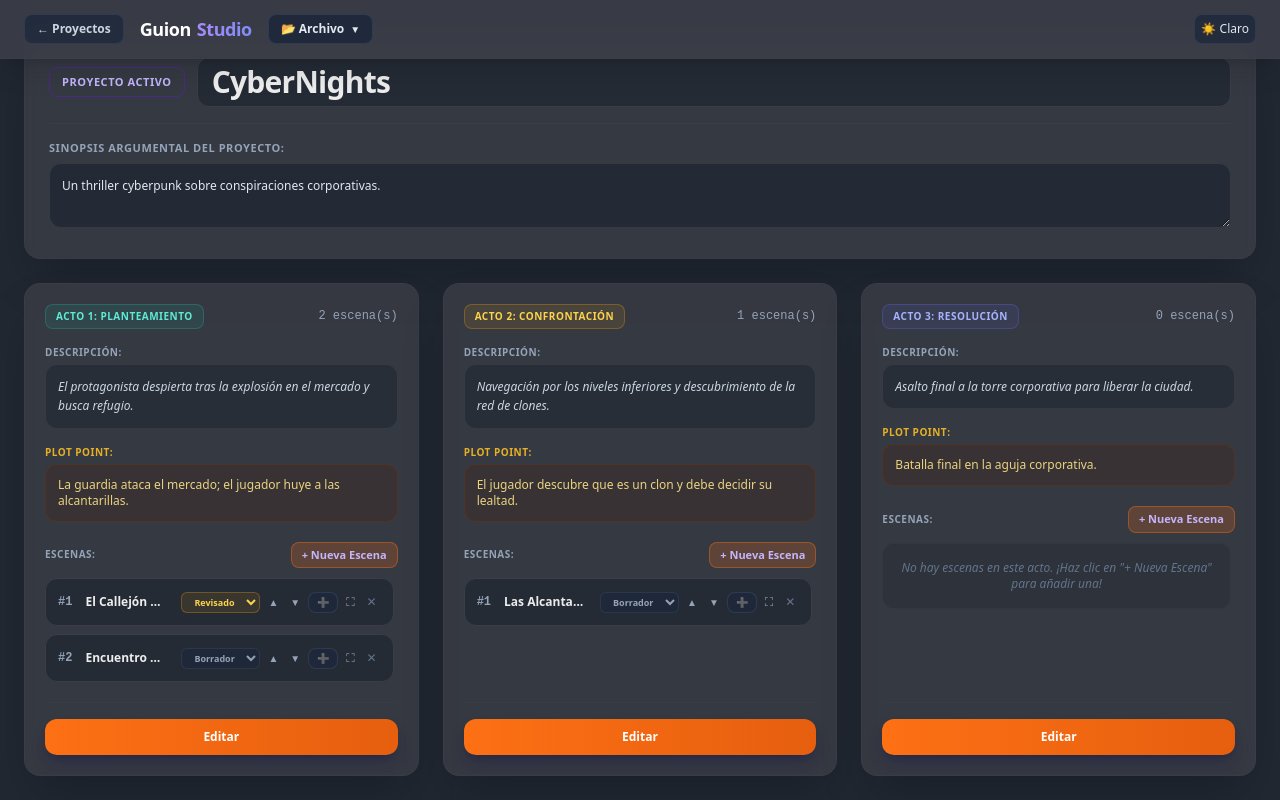
Test: GuionStudio App & Unified Script Dashboard › navigates from DashboardGuion to EditorActo when clicking "Editar"
(page scrolled)
Click the 1st button "Editar" at (221, 737), box [45,719,398,755]
(page scrolled)
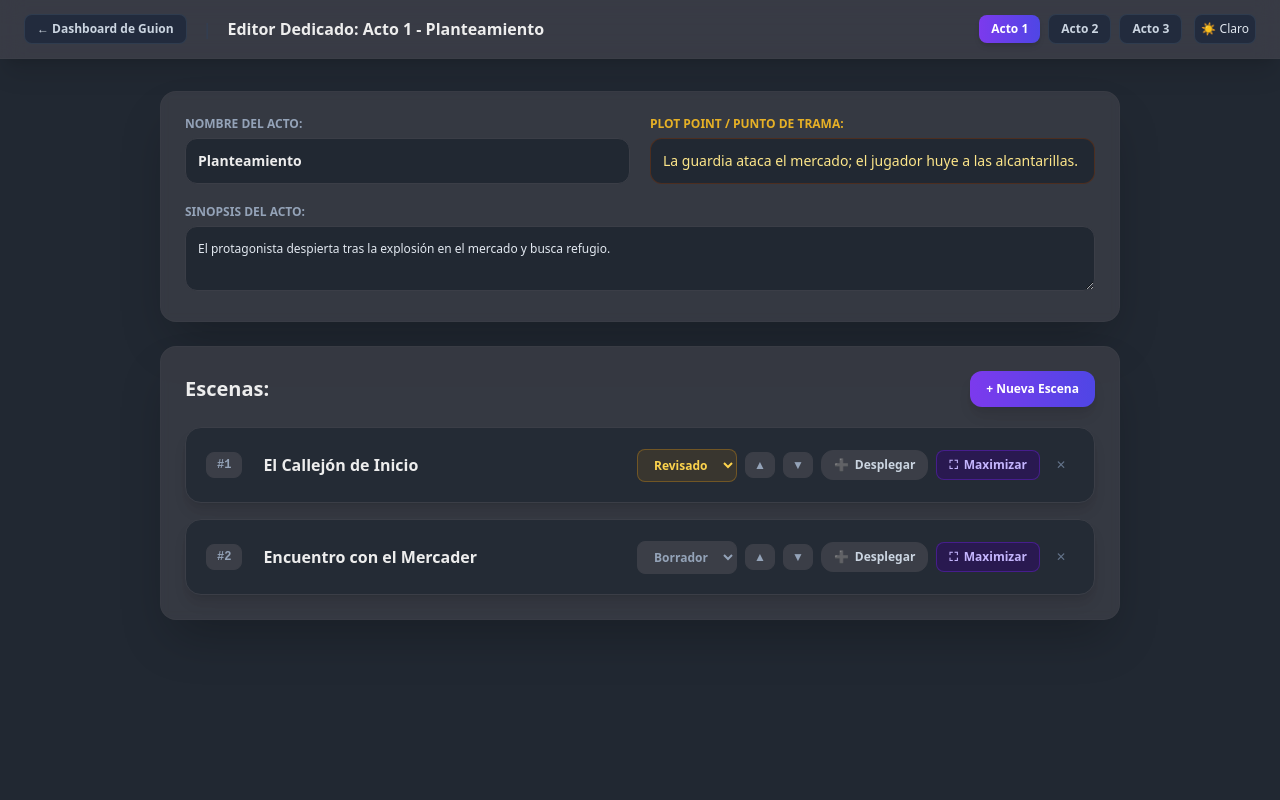
Check: the 3rd field showing "El Callejón de Inicio" is shown, box [254,448,625,482]
Check: the heading "Editor Dedicado: Acto 1 - Planteamiento" is shown, box [228,17,544,41]
Check: the field showing "Planteamiento" below "Nombre del Acto:" is shown, box [185,138,630,184]
